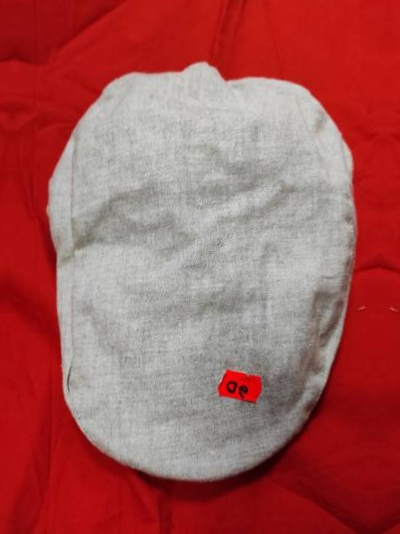Hat: (37, 27, 381, 491), (379, 40, 400, 504)
